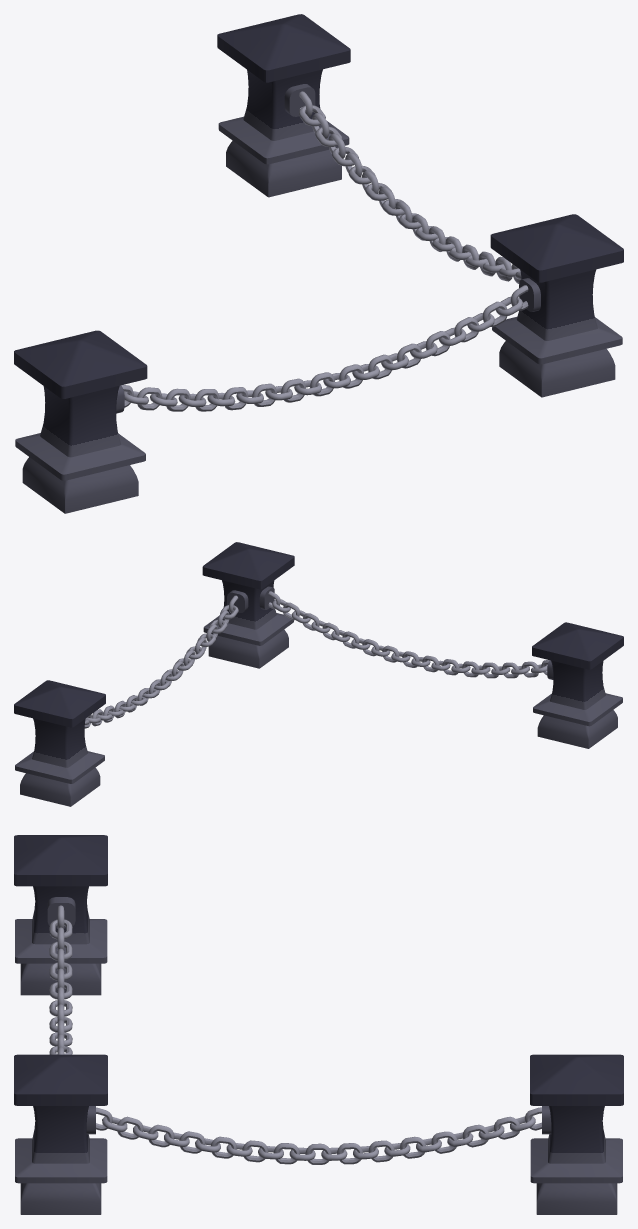
Rendered from bordes.fbx.
3 renders of one model, top to bottom at view 1: azimuth 30°, elevation 25°; view 2: azimuth 150°, elevation 25°; view 3: azimuth 270°, elevation 25°, orthographic. The views are drawn at different scales.
Visible parts, largest first — view 1: bordes; view 2: bordes; view 3: bordes.
Boxes of the visible parts, x1,y1,x2,y2 form: bordes: [14, 14, 623, 513]; bordes: [14, 542, 623, 806]; bordes: [14, 835, 623, 1214].
Bounding box in the file's own units: 750 × 189 × 745.
